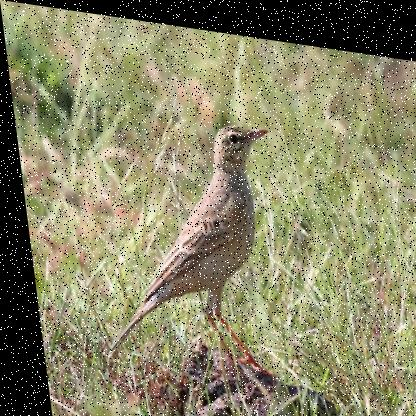Burung: (72, 96, 291, 377)
